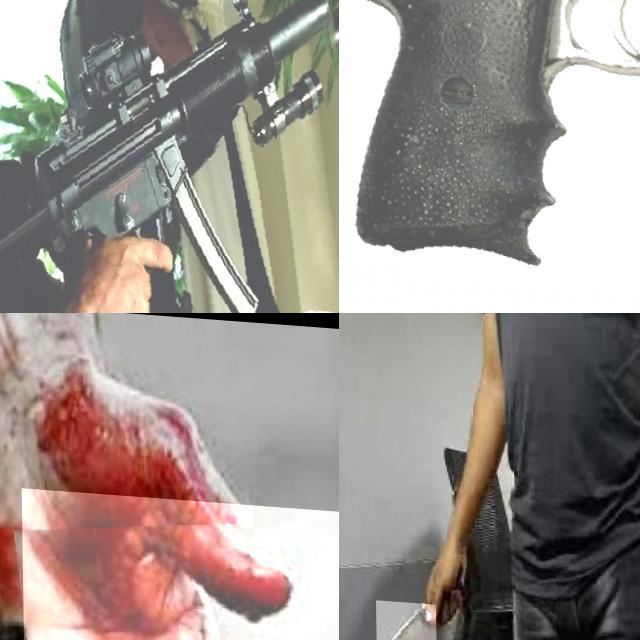-: (21, 486, 339, 640), (374, 595, 435, 640)
gun-knife-thesis - v11 Yolov5 augmented: (0, 0, 339, 313), (339, 0, 640, 294)
